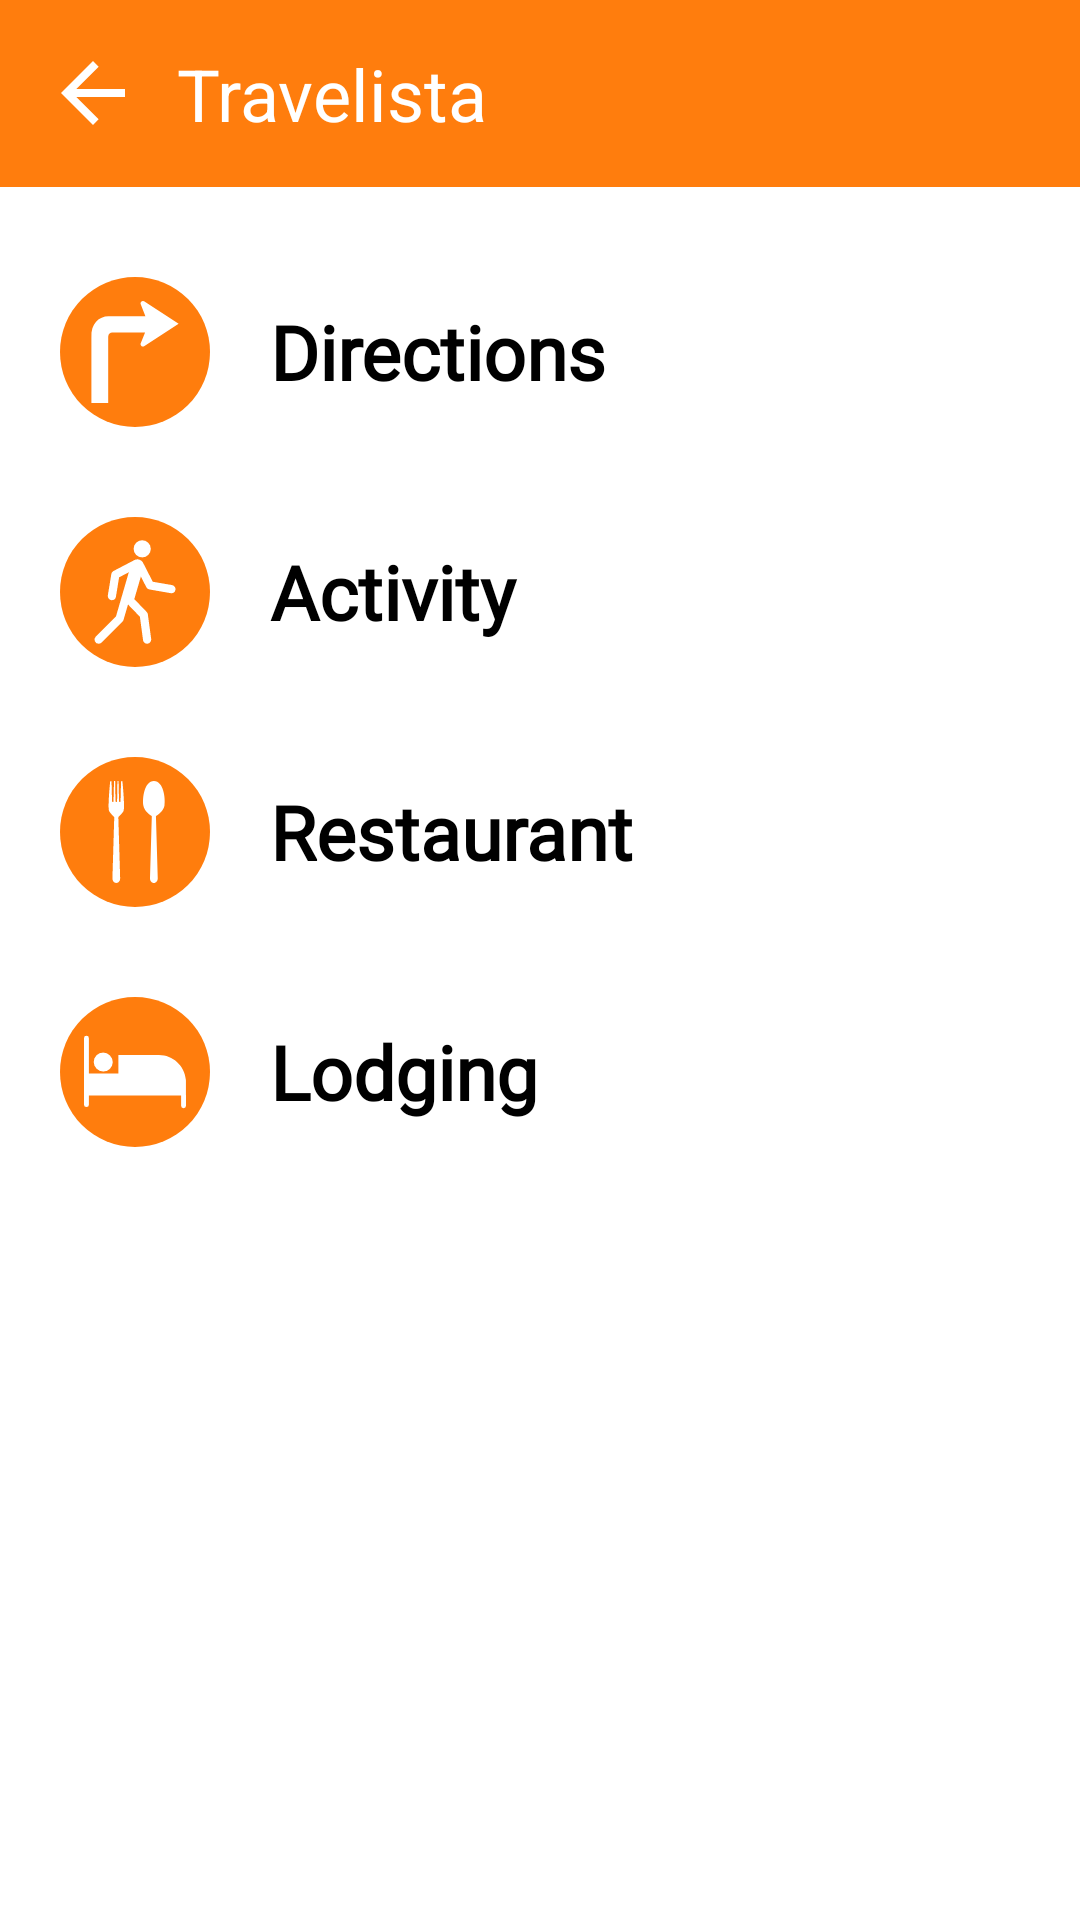

Where icons sit on this 1080 × 1920 app screen, as (x1, y1, x2, y2):
back: (61, 61, 125, 125)
